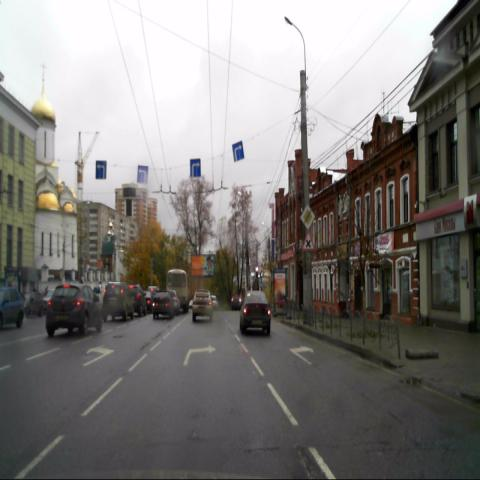1_6: (301, 230, 315, 252)
5_15_2: (232, 140, 244, 162)
